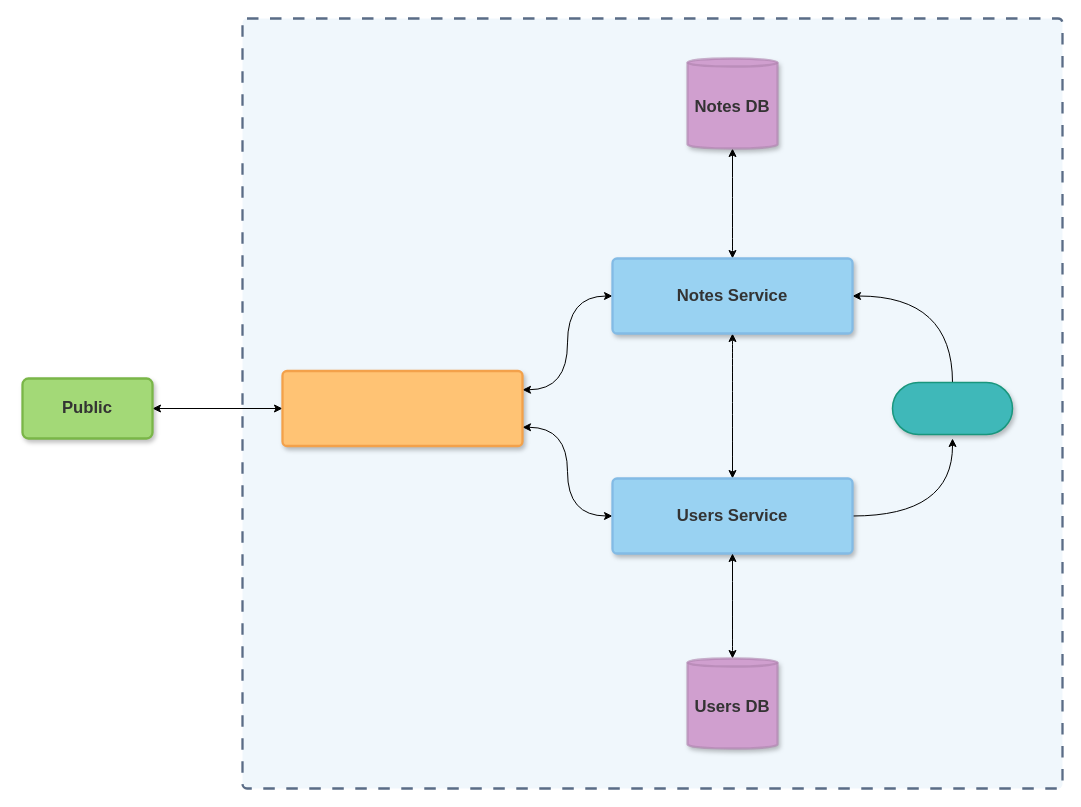
Image size: 1081x807. Some labels were removed from this diagram. Here are the shapes that lost their labels. From the top down, the centre of each, then its label:
At (403,409): "API Gateway".
At (953,409): "RabbitMQ".
